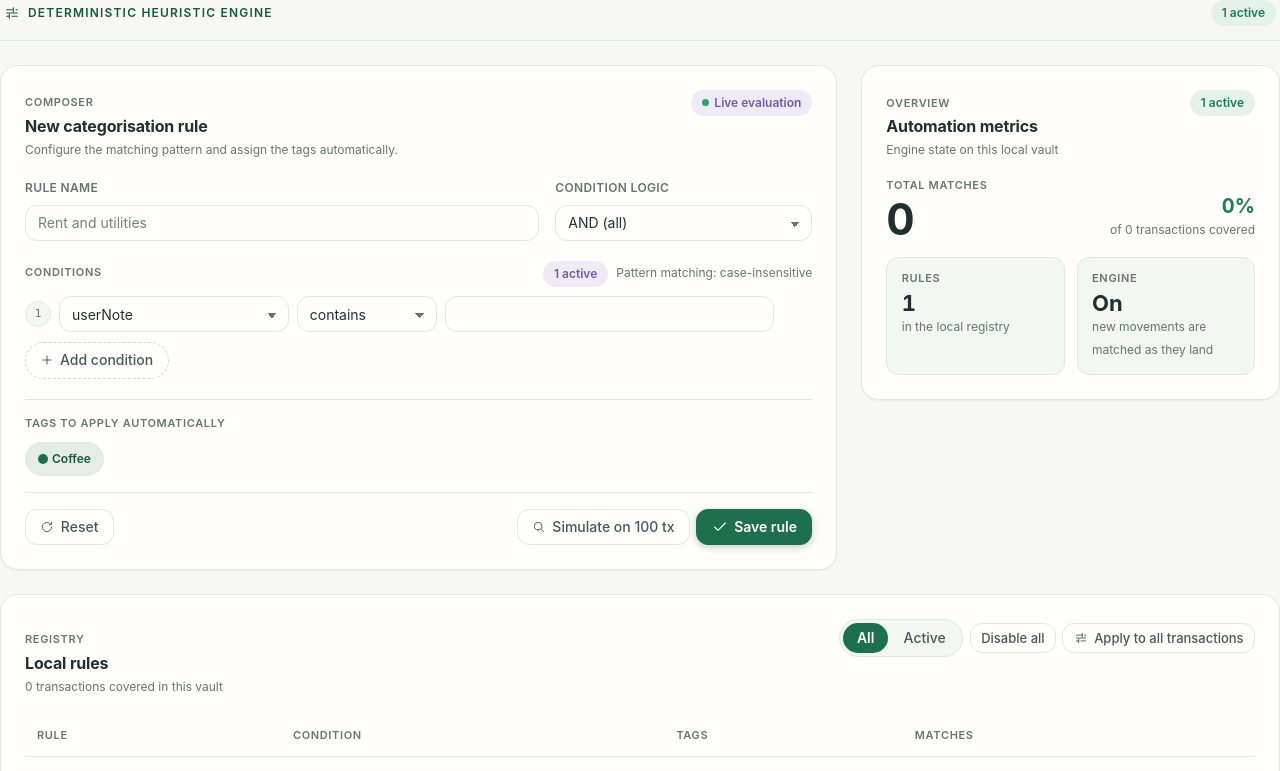
Test case: rules view › edits an existing rule in a dialog and leaves the composer alone
Expected: the button "Coffee" is shown, [25, 442, 104, 476]
Note: The composer is already holding a draft of its own.
Type "Rent rule" into the field labelled "Rule name" at (282, 222), box [25, 204, 539, 240]
(page scrolled)
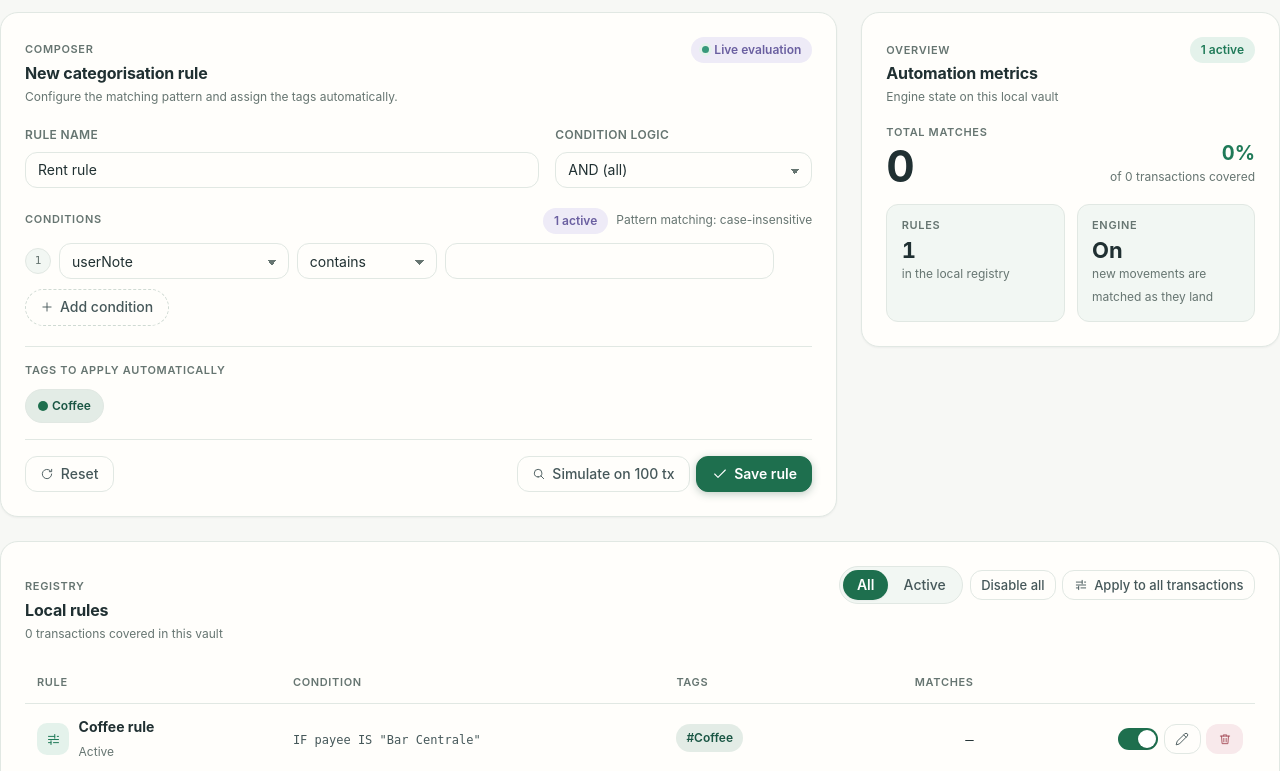
Click the button named "Edit rule Coffee rule" at (1182, 740), box [1164, 724, 1201, 754]
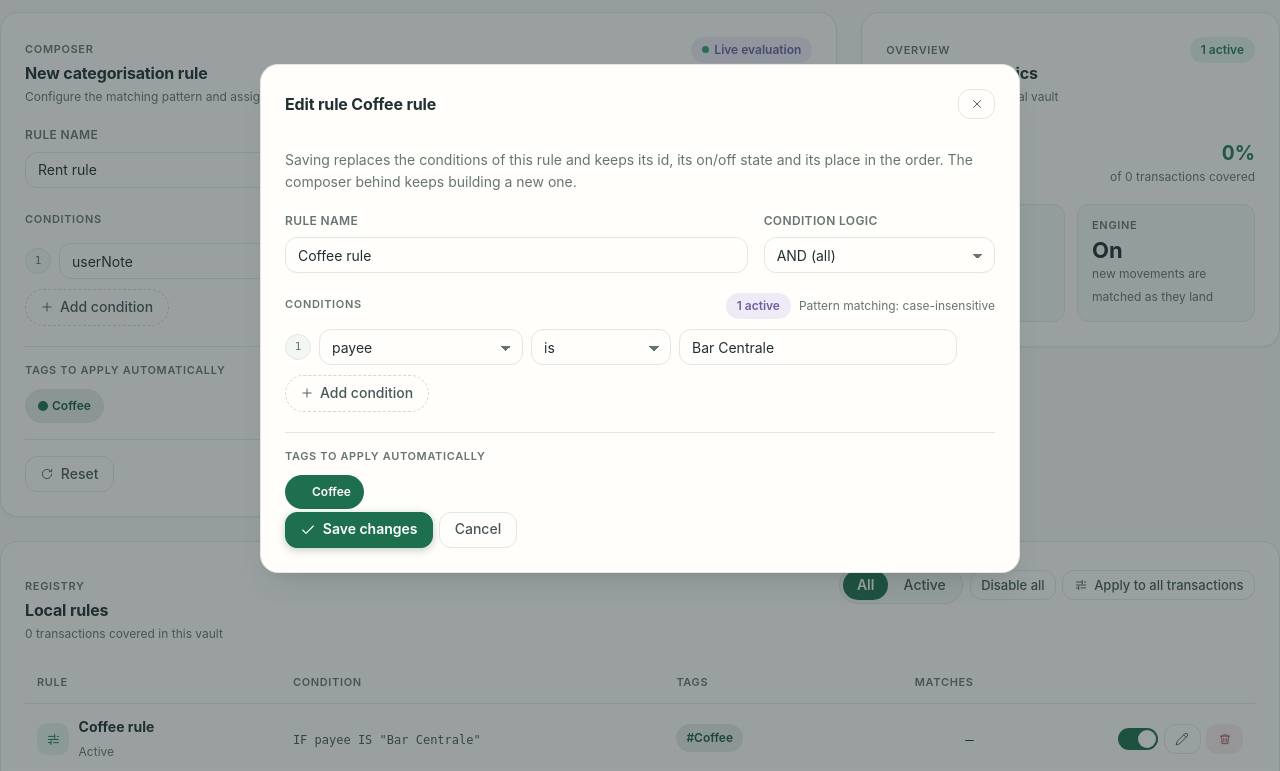
Now the field labelled "Rule name" holds "Coffee rule"
Now the field named "Value 1" holds "Bar Centrale", box [679, 329, 957, 365]
Now the dropdown named "Field 1" shows "payee", box [319, 329, 523, 365]
Replace the text in the field labelled "Rule name" with "Coffee and bars" at (516, 255), box [285, 237, 748, 273]
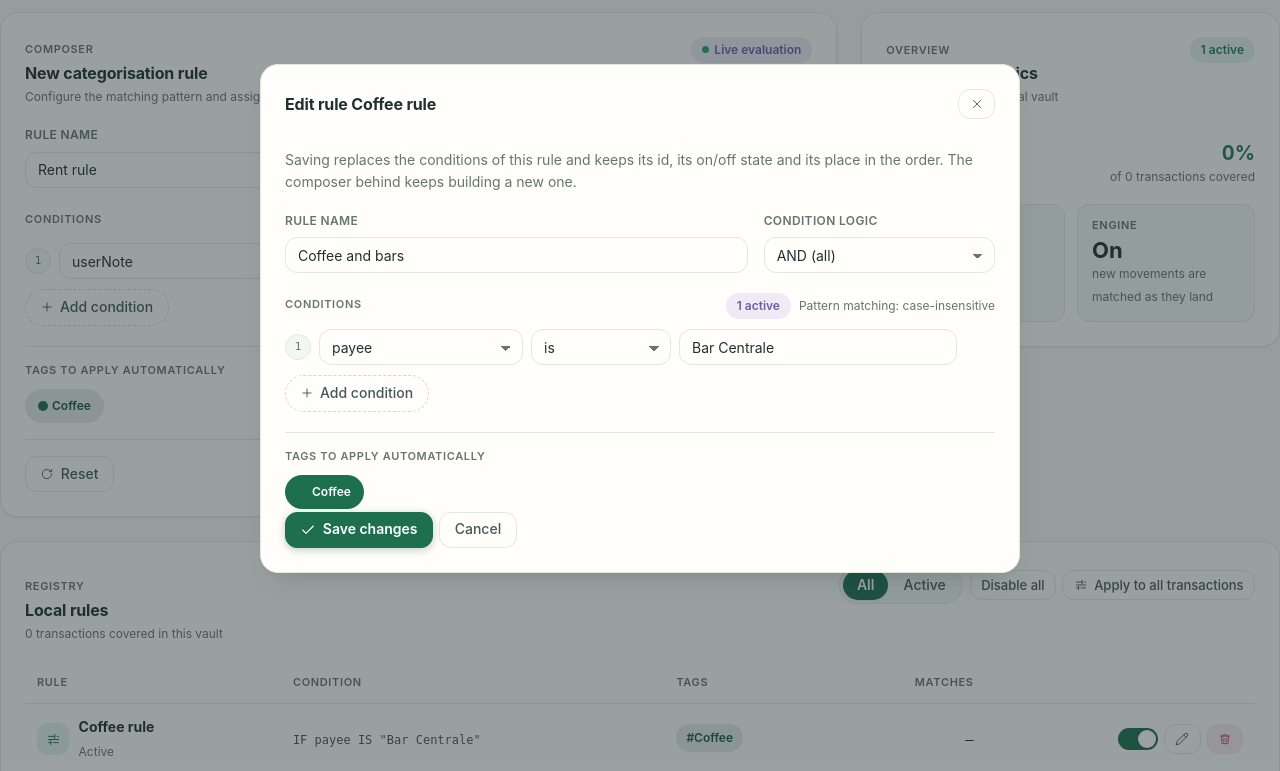
Click the button "Save changes" at (359, 530), box [285, 512, 433, 548]
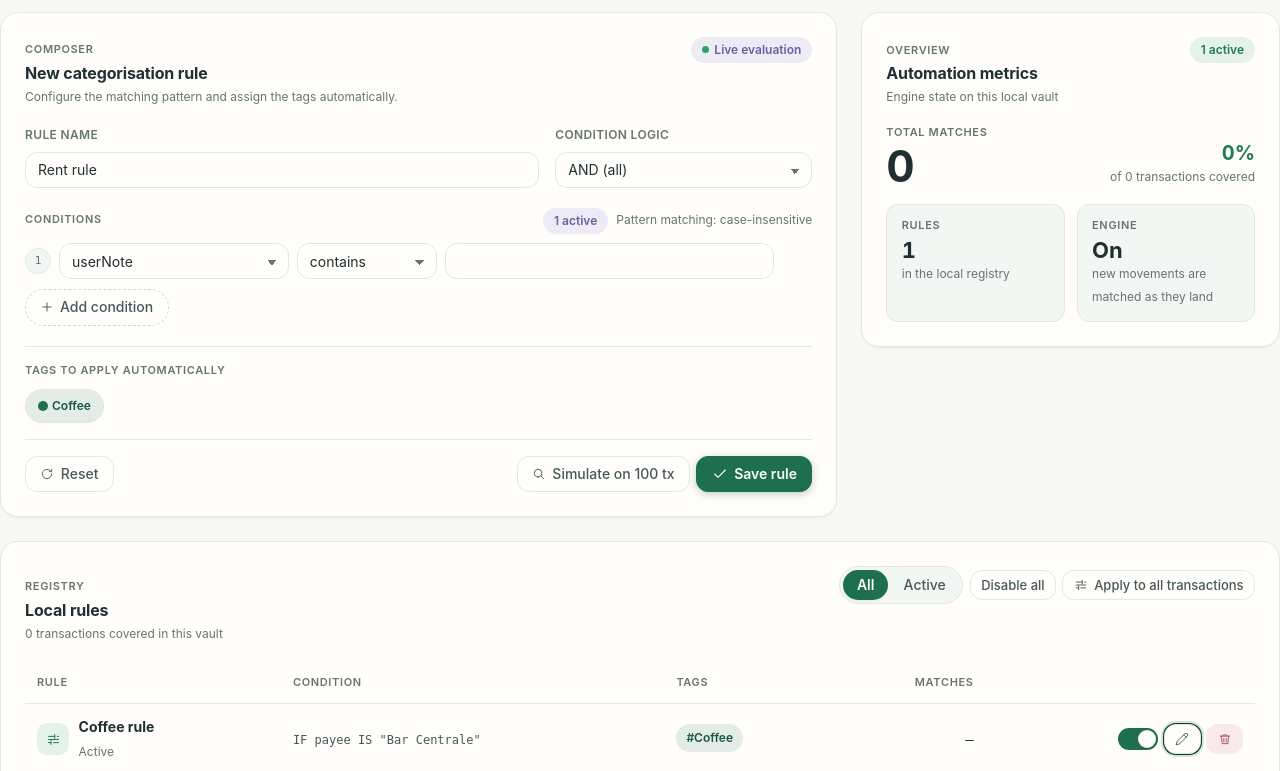
Now the dialog is gone
